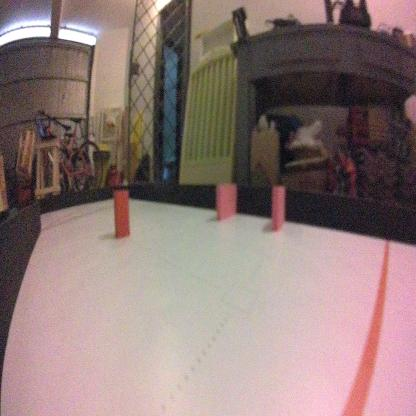magenta: (214, 177, 237, 218), (270, 183, 286, 231)
red: (112, 184, 132, 241)
